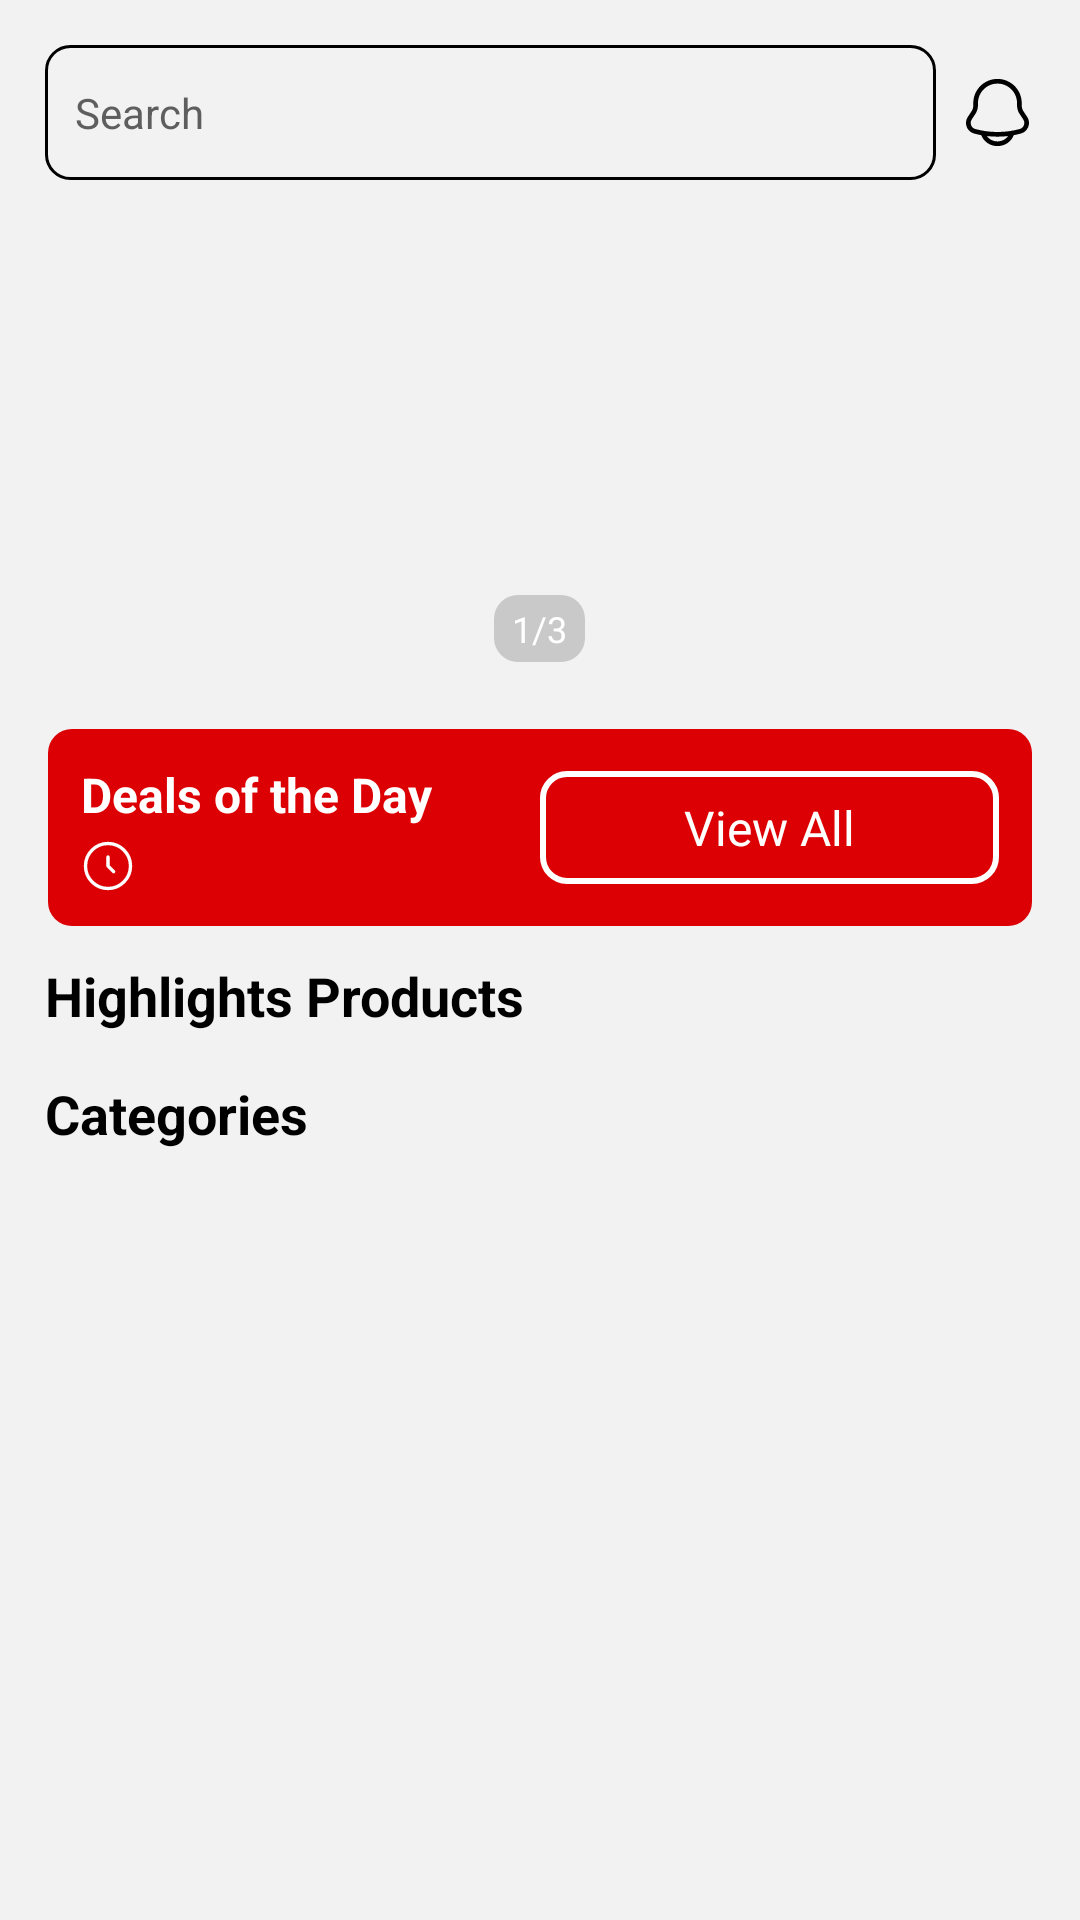

Icon bounding boxes for this 1080×1920 phone screenshot, format (x1, y1, x2, y2):
bell lined: (966, 79, 1029, 146)
clock lined: (83, 841, 133, 891)
